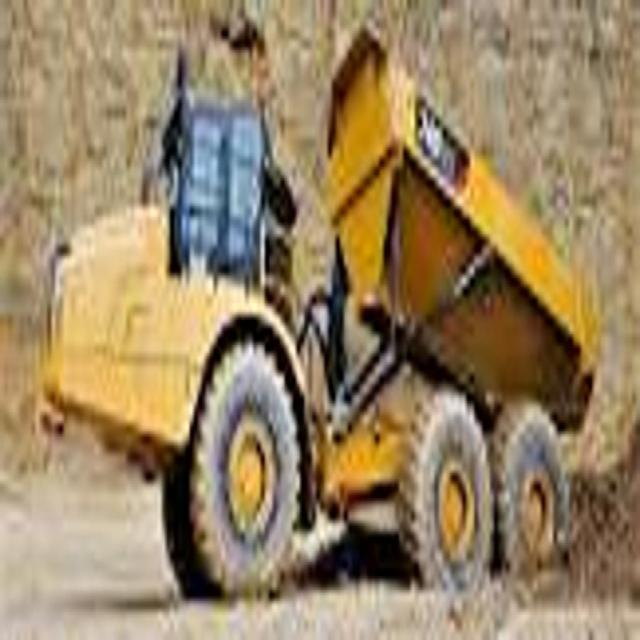dump_truck: (40, 22, 602, 606)
